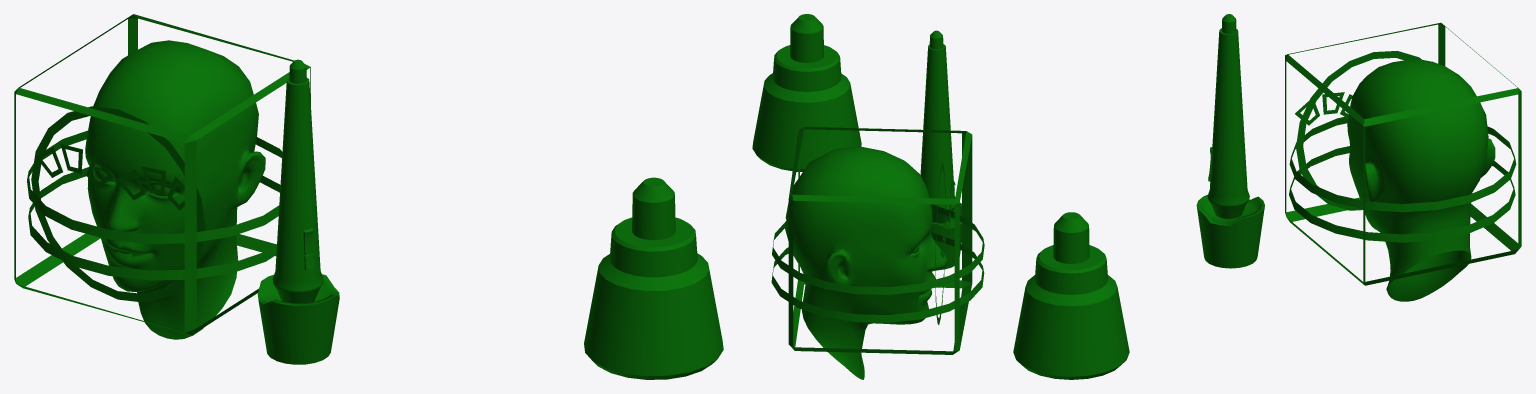
Rendered from Campus_Head (1).fbx.
The picture shows the model from 3 angles, left to right: view 1: azimuth 30°, elevation 25°; view 2: azimuth 150°, elevation 25°; view 3: azimuth 270°, elevation 25°; orthographic projection. The views are drawn at different scales.
Visible parts, largest first — view 1: head1, pCylinder7, pCube60, pCylinder6, pCylinder5, pCylinder8, pSphere9, pSphere2, pSphere1, pCylinder9; view 2: head1, pCylinder7, pCube60, pCylinder6, pCylinder8, pSphere2, pSphere1, pCylinder9, pCylinder5, pSphere9, pCylinder10; view 3: head1, pCylinder7, pCube60, pCylinder6, pCylinder5, pSphere2, pCylinder8, pSphere1, pCylinder9, pSphere9.
Part boxes in pixels (<box>): head1: <box>85,40,265,339</box>; pCylinder7: <box>584,253,723,379</box>; pCube60: <box>14,14,310,335</box>; pCylinder6: <box>272,77,323,303</box>; pCylinder5: <box>257,274,339,364</box>; pCylinder8: <box>610,217,697,277</box>; pSphere9: <box>31,106,205,302</box>; pSphere2: <box>27,130,282,243</box>; pSphere1: <box>28,167,280,280</box>; pCylinder9: <box>632,177,675,240</box>; head1: <box>785,146,947,379</box>; pCylinder7: <box>752,73,861,171</box>; pCube60: <box>788,127,972,354</box>; pCylinder6: <box>920,44,955,223</box>; pCylinder8: <box>772,45,841,91</box>; pSphere2: <box>772,204,984,294</box>; pSphere1: <box>771,232,984,322</box>; pCylinder9: <box>790,14,823,62</box>; pCylinder5: <box>931,202,961,269</box>; pSphere9: <box>935,162,945,324</box>; pCylinder10: <box>929,30,943,49</box>; head1: <box>1347,59,1495,301</box>; pCylinder7: <box>1013,275,1129,379</box>; pCube60: <box>1285,22,1521,285</box>; pCylinder6: <box>1207,28,1249,218</box>; pCylinder5: <box>1196,194,1264,268</box>; pSphere2: <box>1289,116,1516,212</box>; pCylinder8: <box>1035,245,1107,294</box>; pSphere1: <box>1289,146,1515,242</box>; pCylinder9: <box>1053,212,1089,263</box>; pSphere9: <box>1296,51,1421,210</box>.
Size of the model in its own units: 1010 by 715 by 1124.
